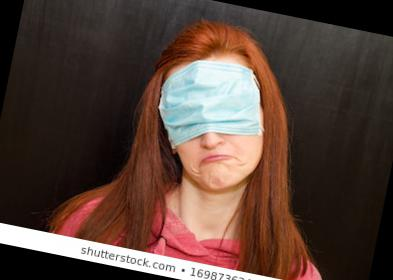mask_weared_incorrect: (154, 69, 268, 200)
